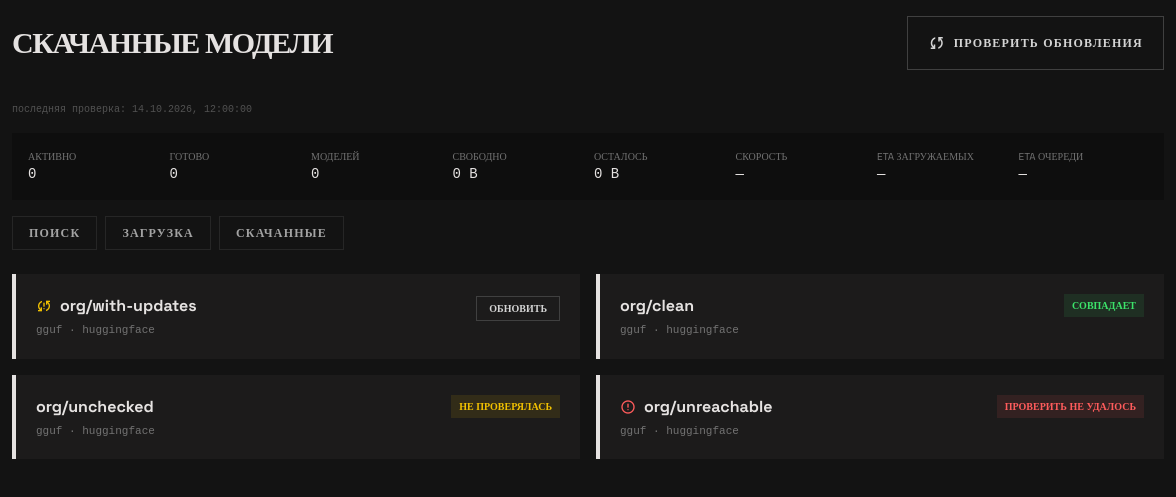
DownloadedModelsPage — кнопка «Обновить» на плитке › сообщает, что обновление поставлено в очередь
What coordinates should you click on to do the following:
click the button with test id "update-model-1"
I would click on:
 (518, 308)
Its box is [476,296,560,321].
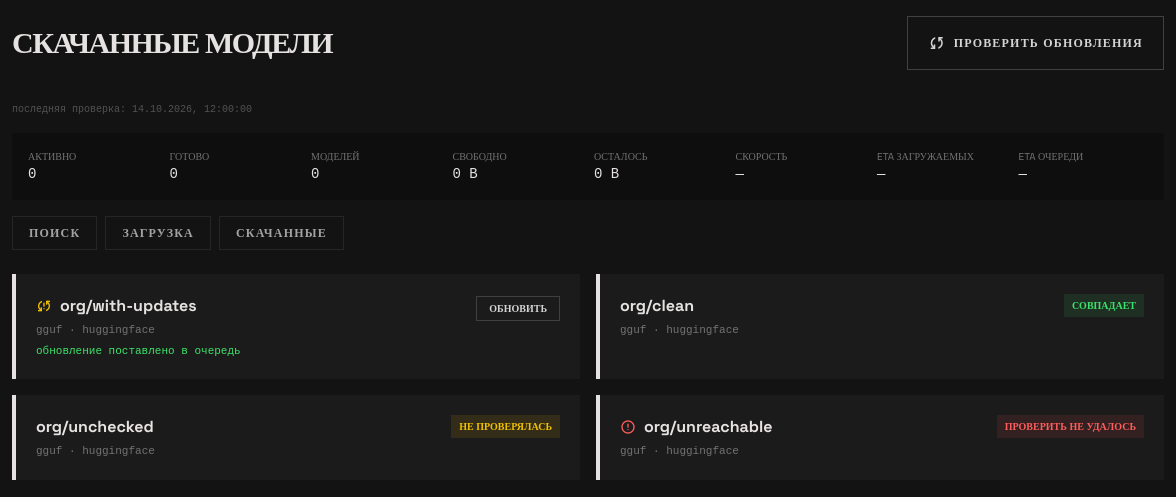
Result: the text with test id "update-message-1" reads "обновление поставлено в очередь" at [36,344,241,356]
